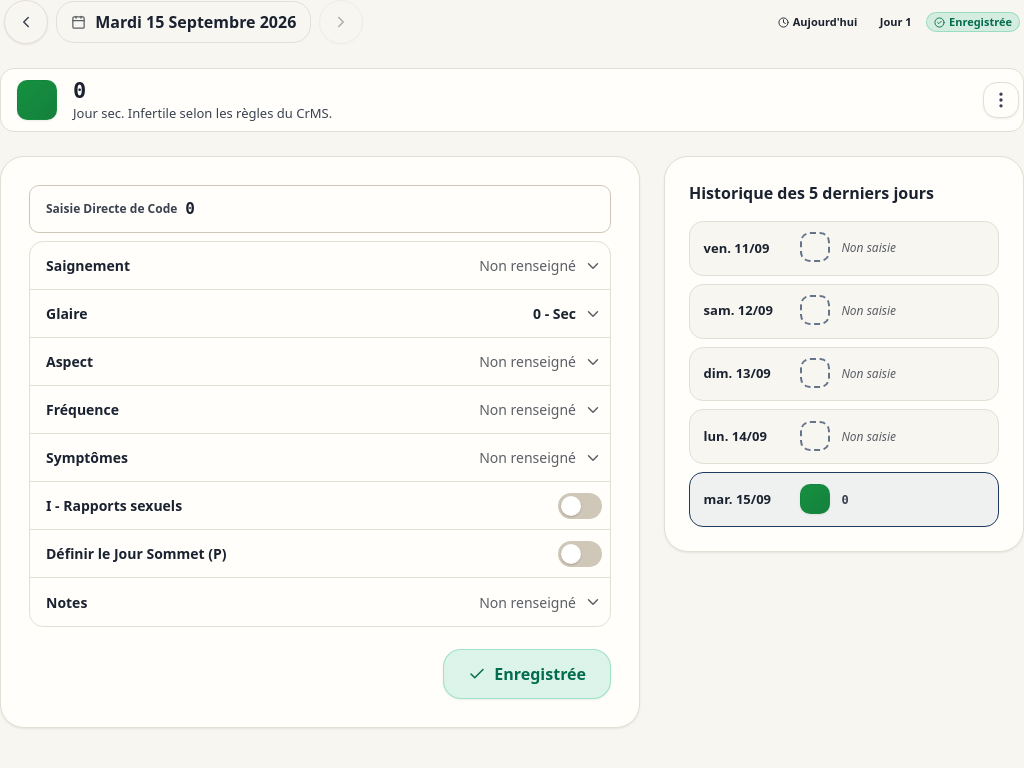
Scenario: French text of the components › translates the today form titles, placeholder, day badge and saved state
This screenshot has width=1024, height=768.
Click the button "Notes Non renseigné" at (67, 602), box left=30, top=578, right=610, bottom=626
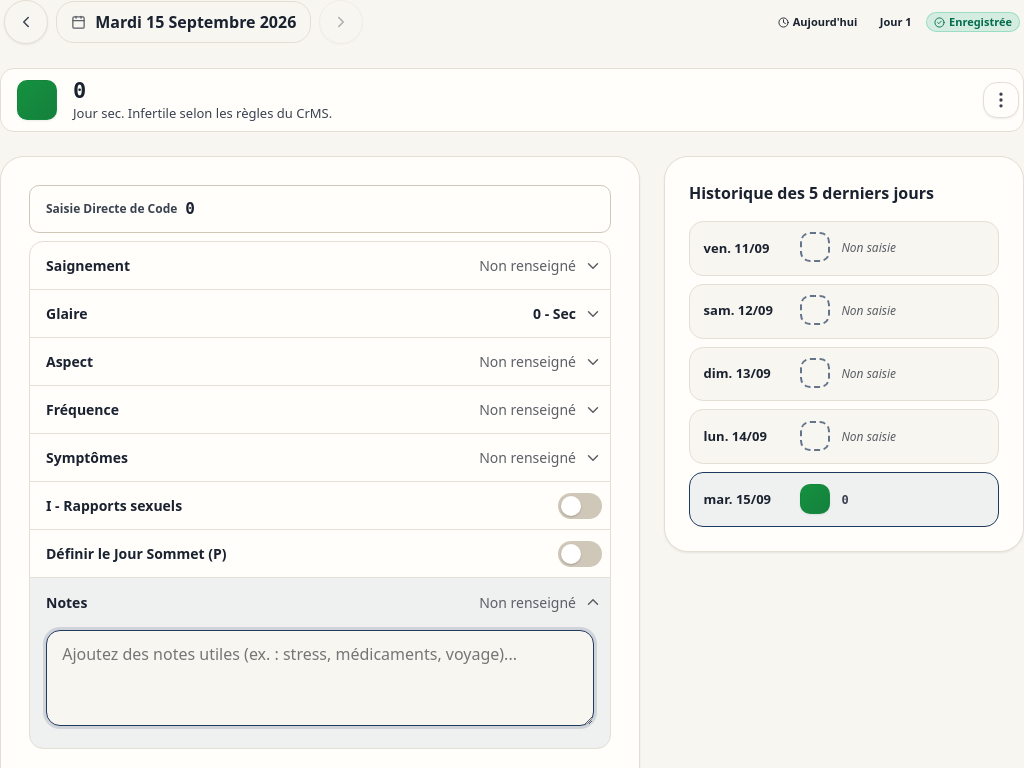
Now the text box with placeholder "Ajoutez des notes utiles (ex. : stress, médicaments, voyage)..." is shown, box left=46, top=630, right=594, bottom=726
